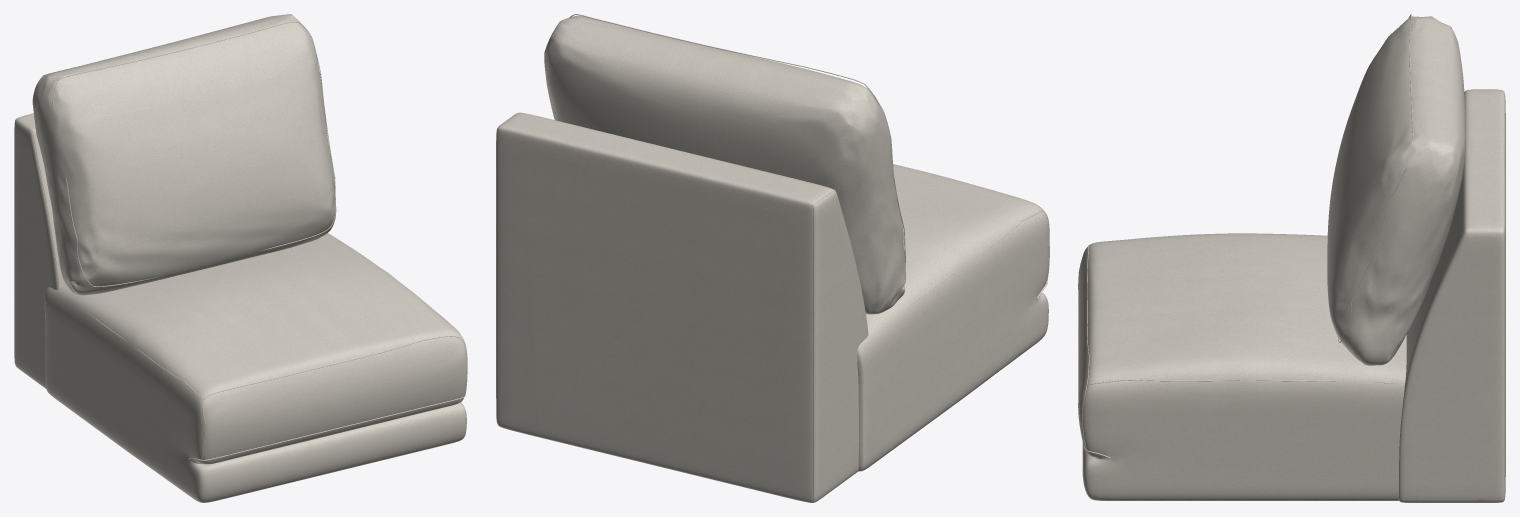
File: seat.glb
3 views of the same model, side by side, from view 1: azimuth 30°, elevation 25°; view 2: azimuth 150°, elevation 25°; view 3: azimuth 270°, elevation 25° (orthographic). The views are drawn at different scales.
Visible parts, largest first — view 1: D=~ 0,00 m; view 2: D=~ 0,00 m; view 3: D=~ 0,00 m.
Part boxes in pixels (bbox=[...]): D=~ 0,00 m: bbox=[14, 14, 467, 502]; D=~ 0,00 m: bbox=[496, 14, 1049, 502]; D=~ 0,00 m: bbox=[1078, 14, 1505, 502].
Size of the model in its own units: 0.8478 by 0.9311 by 1.03.
2 materials, 1 textured.
